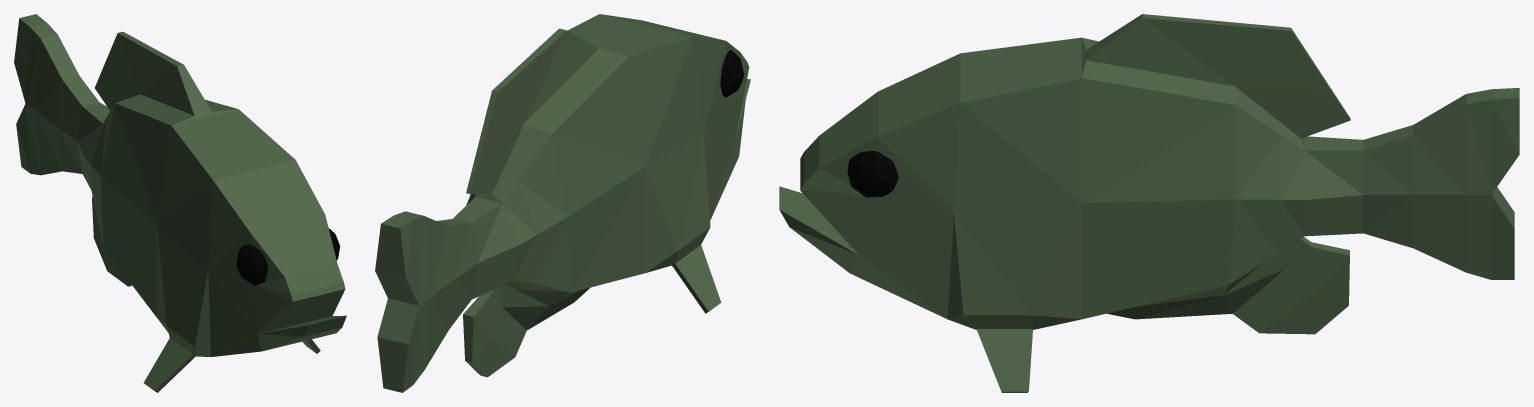
Rendered from crappie.dae.
3 renders of one model, left to right at view 1: azimuth 30°, elevation 25°; view 2: azimuth 150°, elevation 25°; view 3: azimuth 270°, elevation 25°, orthographic. The views are drawn at different scales.
Parts seen in each view (by area): view 1: Cube_001, Icosphere_001; view 2: Cube_001, Icosphere_001; view 3: Cube_001, Icosphere_001.
Boxes of the visible parts, x1=… form: Cube_001: x1=14, y1=14, x2=346, y2=392; Icosphere_001: x1=236, y1=228, x2=340, y2=285; Cube_001: x1=375, y1=14, x2=750, y2=392; Icosphere_001: x1=720, y1=49, x2=744, y2=97; Cube_001: x1=779, y1=14, x2=1519, y2=392; Icosphere_001: x1=847, y1=151, x2=898, y2=197.
Bounding box in the file's own units: 1.28 × 4.01 × 1.96.
